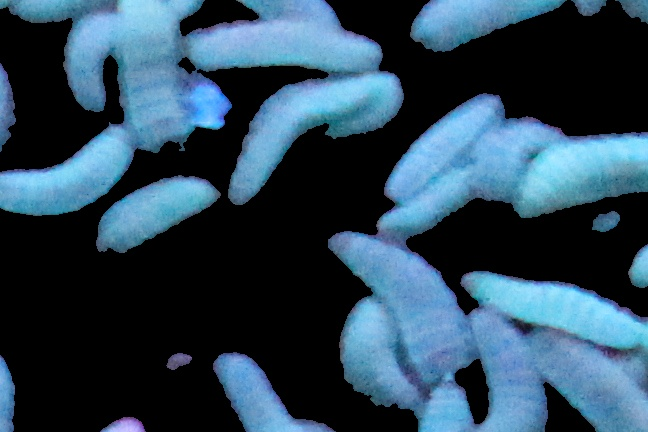larvae: (330, 228, 468, 381), (229, 75, 379, 207), (460, 262, 648, 352), (384, 91, 504, 200), (526, 325, 648, 432), (513, 130, 648, 223), (1, 124, 134, 218), (338, 290, 419, 431), (181, 22, 388, 74), (119, 1, 190, 151), (464, 306, 548, 432), (96, 172, 223, 255), (410, 1, 567, 58), (466, 116, 562, 205), (210, 351, 303, 432), (381, 172, 481, 242), (322, 73, 404, 143), (64, 10, 116, 117), (235, 1, 346, 27)
